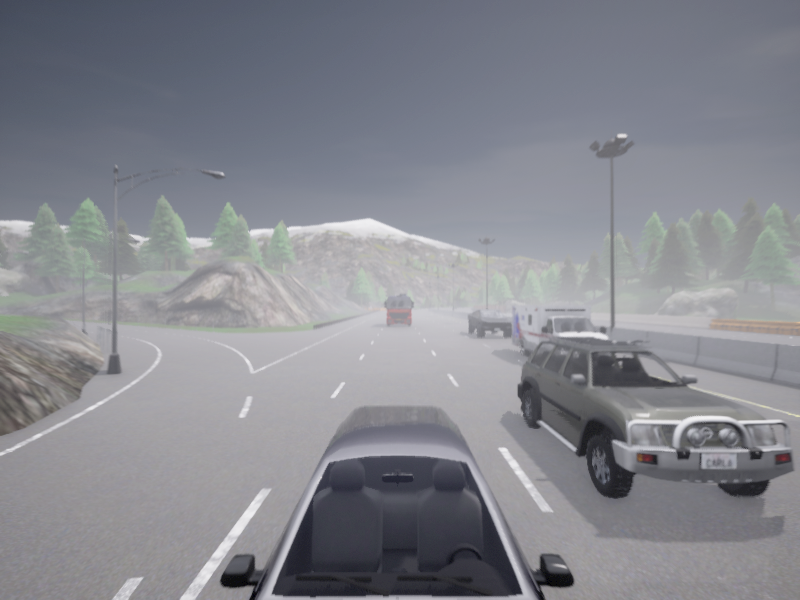vehicle: (220, 405, 574, 599), (517, 336, 793, 496), (511, 305, 607, 355), (467, 310, 511, 337), (384, 293, 413, 326), (454, 307, 457, 309)
